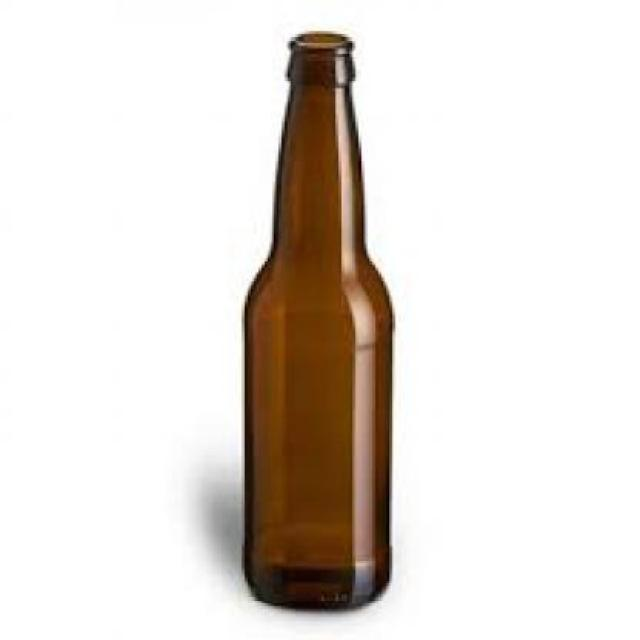kaca: (242, 31, 396, 606)
